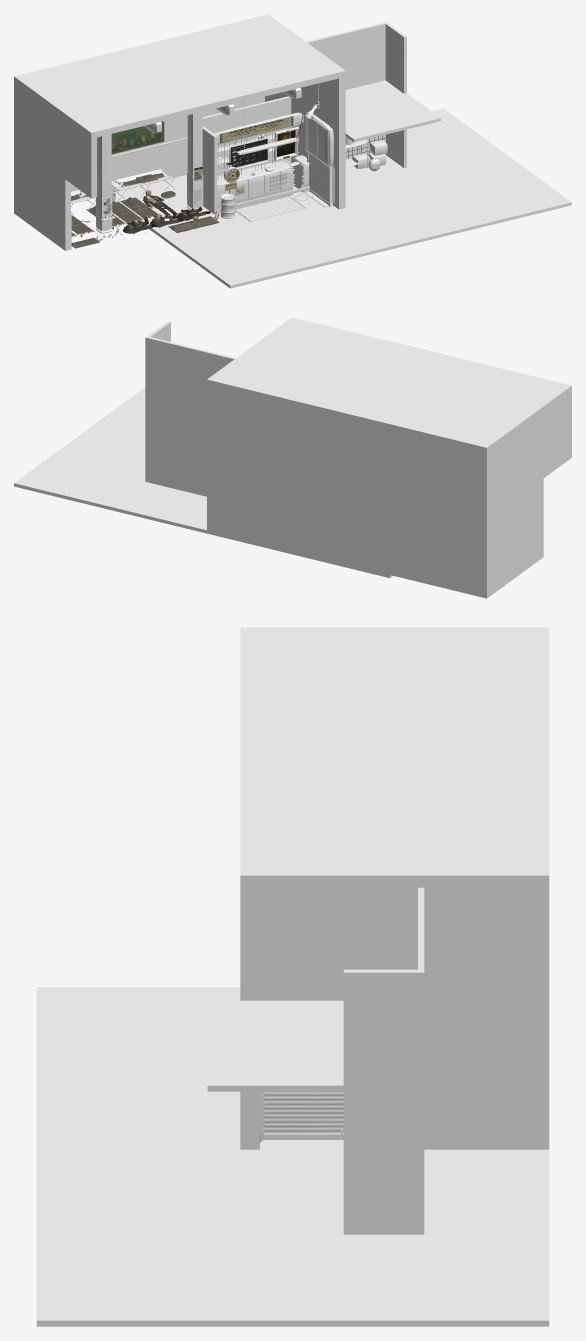
3 renders of one model, top to bottom at view 1: azimuth 30°, elevation 25°; view 2: azimuth 150°, elevation 25°; view 3: azimuth 270°, elevation 25°, orthographic. The views are drawn at different scales.
Visible parts, largest first — view 1: RationSetWallPanel, RationSetConcrete, RationSetCanteenGreen, RationSetDepotGreen, RationSetDepotSteel, RationSetCrateWood, TableauDL05Remains, RationSetShutterSteel, RationMural, MECH_WeighScale_dl05_weighIn, MECH_Door_dl05_hatch, RationSign (+7 smaller); view 2: RationSetWallPanel, RationSetConcrete; view 3: RationSetWallPanel, RationSetConcrete, MECH_Door_dl05_hatch.
Part boxes in pixels (left/top/right/bottom): RationSetWallPanel: left=14, top=14, right=440, bottom=250; RationSetConcrete: left=95, top=108, right=571, bottom=288; RationSetCanteenGreen: left=71, top=139, right=203, bottom=249; RationSetDepotGreen: left=117, top=112, right=309, bottom=228; RationSetDepotSteel: left=71, top=97, right=385, bottom=222; RationSetCrateWood: left=100, top=137, right=387, bottom=220; TableauDL05Remains: left=122, top=190, right=210, bottom=234; RationSetShutterSteel: left=306, top=114, right=333, bottom=166; RationMural: left=111, top=121, right=164, bottom=154; MECH_WeighScale_dl05_weighIn: left=235, top=197, right=304, bottom=221; MECH_Door_dl05_hatch: left=304, top=153, right=329, bottom=207; RationSign: left=219, top=116, right=293, bottom=143; RationSetWallPanel: left=145, top=317, right=571, bottom=598; RationSetConcrete: left=14, top=387, right=392, bottom=577; RationSetWallPanel: left=207, top=627, right=549, bottom=1234; RationSetConcrete: left=36, top=987, right=549, bottom=1326; MECH_Door_dl05_hatch: left=264, top=1091, right=343, bottom=1139.
Bounding box in the file's own units: 15.1 × 4.7 × 7.8.
50 materials, 14 textured.
